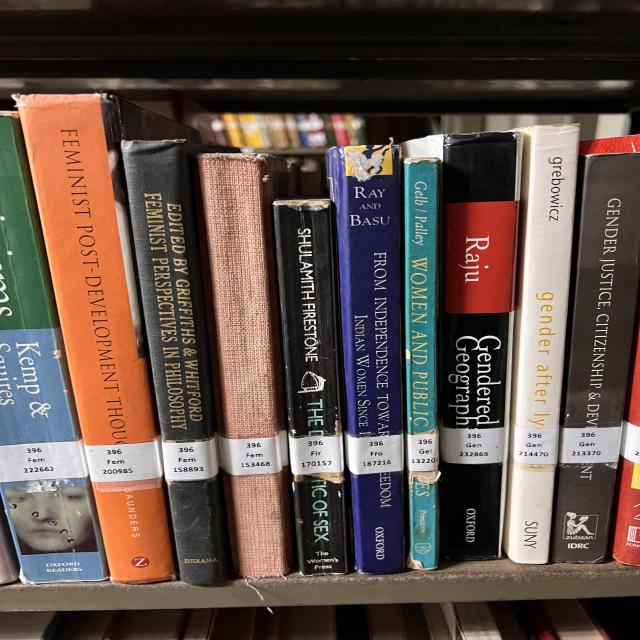Book: (17, 94, 195, 584), (402, 132, 520, 560), (0, 112, 107, 582), (122, 140, 230, 584), (198, 154, 292, 576), (550, 136, 640, 562), (327, 145, 405, 574), (503, 125, 578, 564), (273, 199, 347, 575), (403, 158, 440, 570), (612, 330, 640, 566)
Label: (0, 440, 88, 482), (85, 439, 163, 482), (162, 436, 218, 481), (218, 436, 282, 475), (558, 426, 622, 464), (345, 434, 403, 475), (440, 428, 505, 464), (288, 435, 343, 475), (513, 425, 558, 464), (407, 430, 438, 471), (620, 421, 640, 464)
